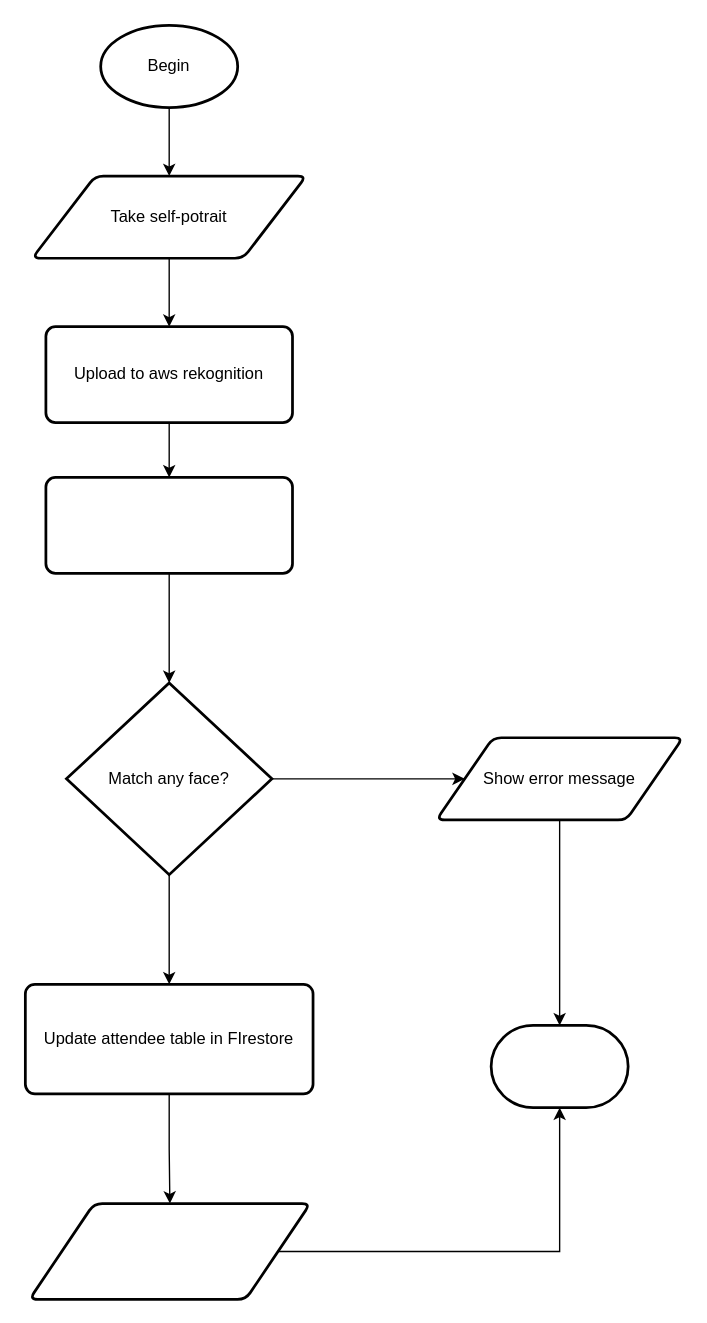
This 707x1323 diagram has some shape labels left out. The centre of each missing label's shape, as x and y in pixels:
AWS Rekognition analyze image: the point at 168,524
End: the point at 559,1065
Show success message: the point at 169,1250
